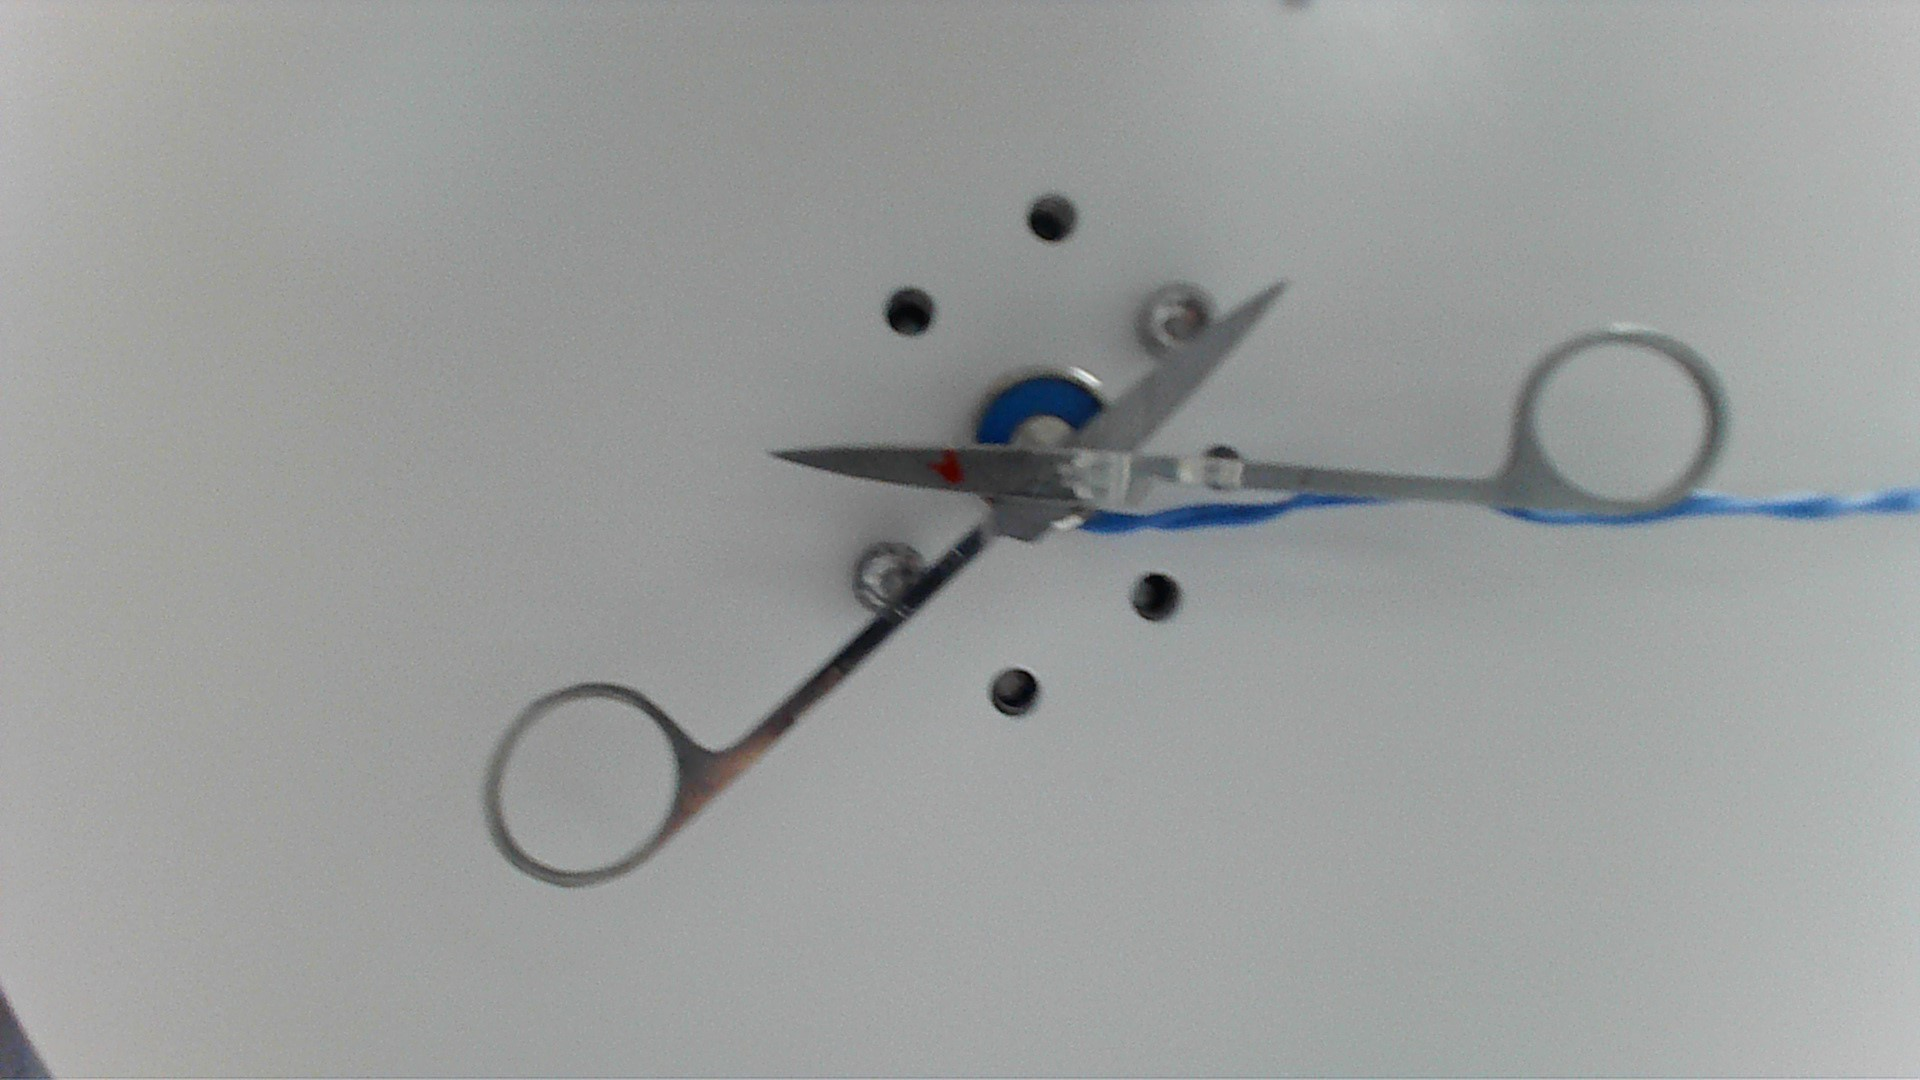Stain: (926, 446, 975, 496)
